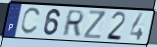2: (105, 11, 127, 42)
4: (129, 12, 145, 42)
6: (43, 8, 62, 37)
C: (19, 7, 42, 36)
R: (60, 9, 86, 38)
Z: (83, 9, 107, 41)
